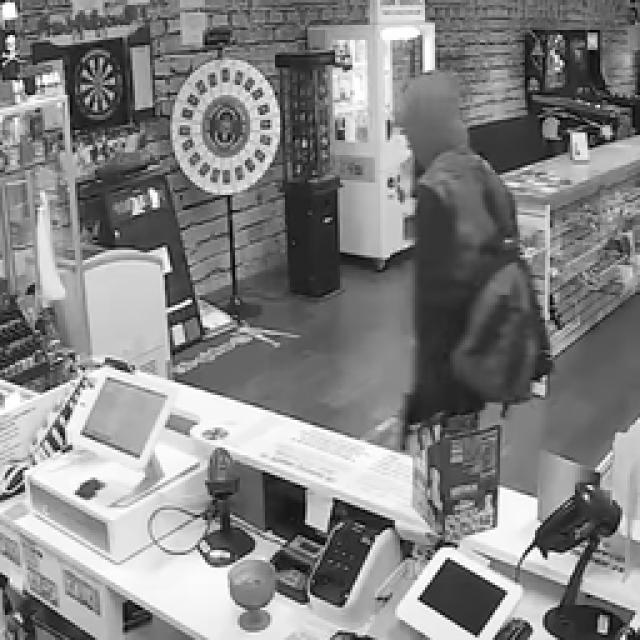Invader: (392, 68, 532, 428)
